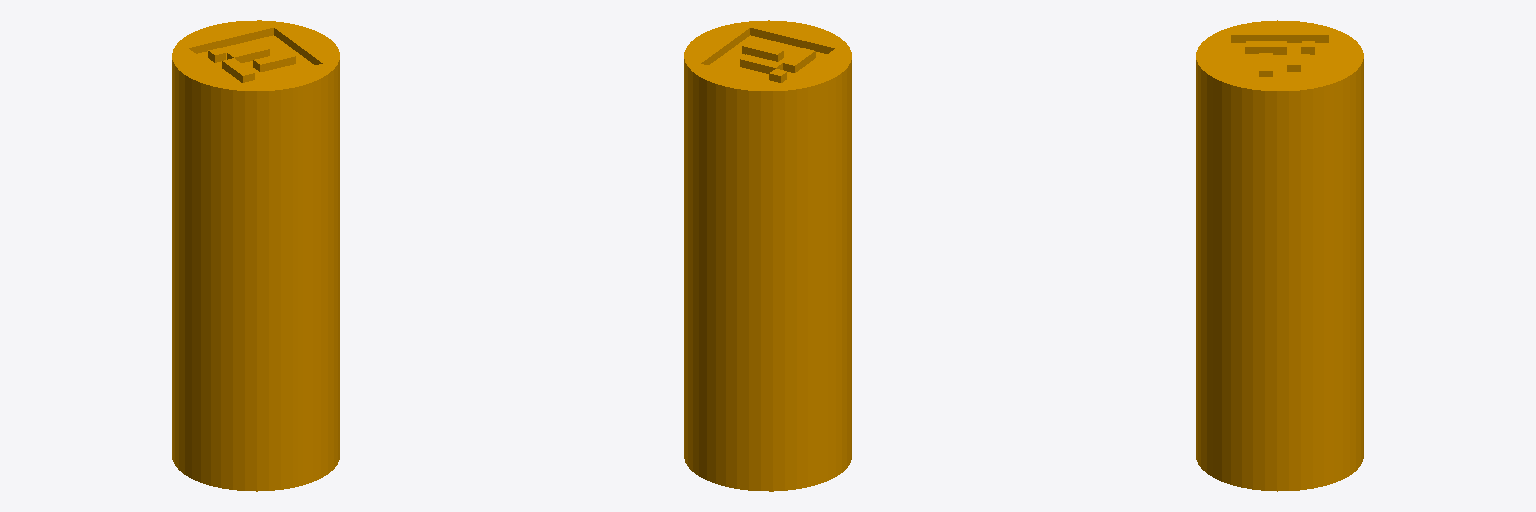
robot.urdf — 20_r_circle:
<?xml version="1.0" ?>
<robot name="20_r_circle">

    <link name="20_r_circle">
        <visual>
            <origin rpy="1.5707963267948966 0 0" xyz="0 0 0"/>
            <geometry>
                <mesh filename="Shapes/20_r_circle.obj" scale="1.1 1.1 1.1"/>
            </geometry>
        </visual>
        <collision>
            <origin rpy="1.5707963267948966 0 0" xyz="0 0 0"/>
            <geometry>
                <mesh filename="Shapes/20_r_circle.obj" scale="1.1 1.1 1.1"/>
            </geometry>
        </collision>
        <inertial>
            <mass value="0.3"/>
            <inertia ixx="0.000029435425" ixy="0.0" ixz="0.0" iyy="0.000029435425" iyz="0.0" izz="0.00000725805"/>
        </inertial>
    </link>

</robot>

--- What the picture shows (computed from the rendered views, not written in the file) ---
The picture shows the robot from 3 angles, left to right: view 1: azimuth 30°, elevation 25°; view 2: azimuth 150°, elevation 25°; view 3: azimuth 270°, elevation 25°; orthographic projection.
Robot: 20_r_circle — 1 links, 0 joints (none); root link 20_r_circle; default pose: every joint at zero.
Visible links, largest first — view 1: 20_r_circle; view 2: 20_r_circle; view 3: 20_r_circle.
Boxes of the visible links, left/top/right/bottom form: 20_r_circle: left=172, top=20, right=339, bottom=491; 20_r_circle: left=684, top=20, right=851, bottom=491; 20_r_circle: left=1196, top=20, right=1363, bottom=491.
Bounding box of the posed robot: 0.044 × 0.044 × 0.1155 m (x, y, z).
Meshes: 1 distinct files referenced, 1 mesh visuals loaded (1 OBJ).
